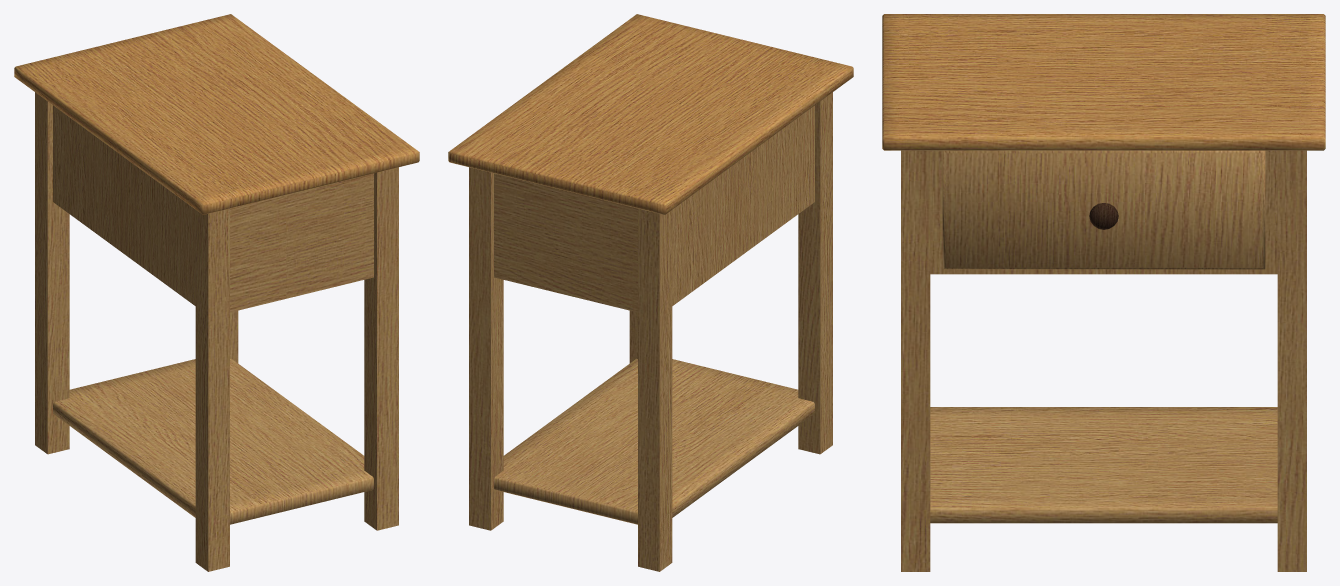
The model's file is bedside_table1.obj.
3 renders of one model, left to right at view 1: azimuth 30°, elevation 25°; view 2: azimuth 150°, elevation 25°; view 3: azimuth 270°, elevation 25°, orthographic. The views are drawn at different scales.
Parts seen in each view (by area): view 1: bedsidetable; view 2: bedsidetable; view 3: bedsidetable.
Part boxes in pixels (x1,y1,x2,y2): bedsidetable: (14,14,419,571); bedsidetable: (448,14,853,571); bedsidetable: (882,14,1325,571).
Bounding box in the file's own units: 5.66 × 9.24 × 8.4.
Materials: 1 (1 with a texture image).
